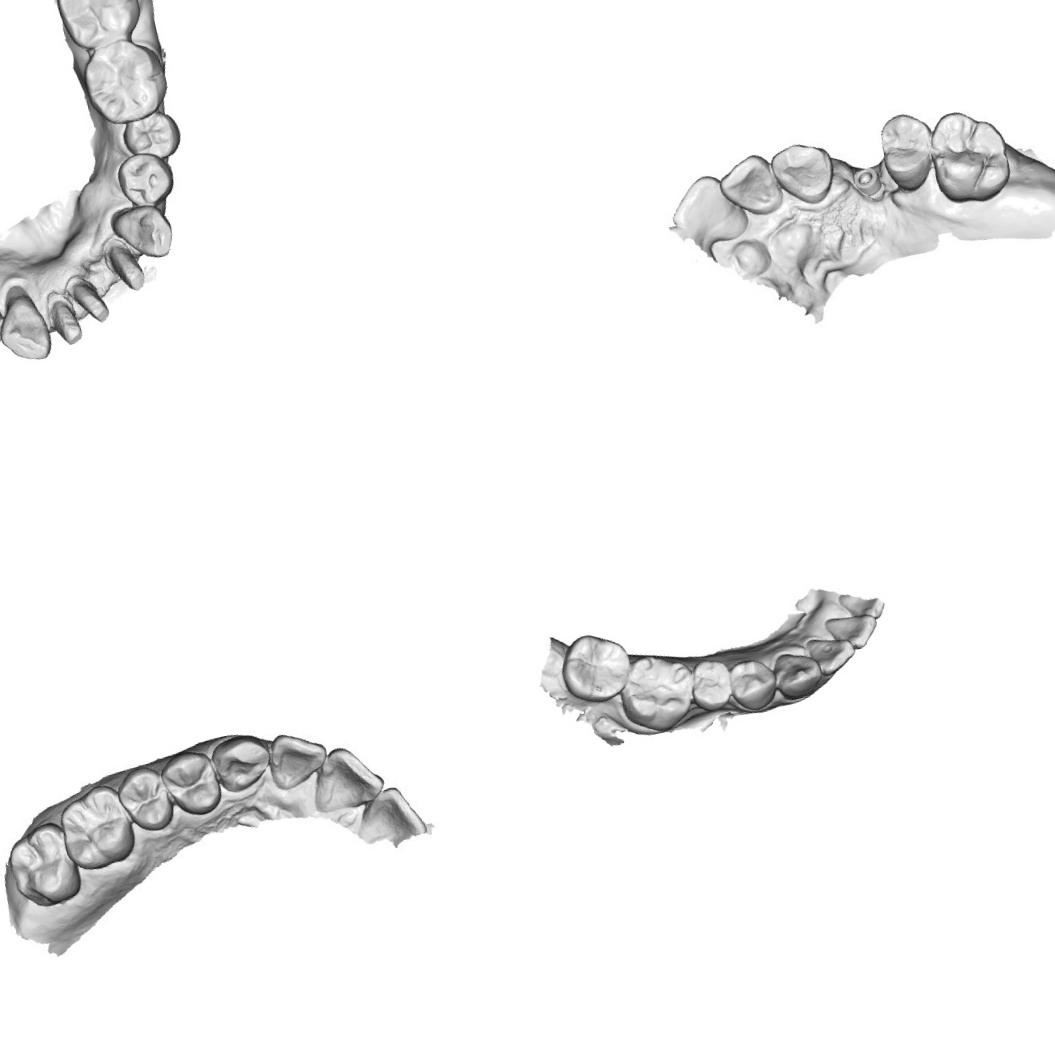canine: (766, 134, 841, 212), (106, 198, 180, 268), (207, 728, 277, 796), (0, 286, 57, 369), (770, 644, 826, 704)
crown: (97, 232, 150, 297), (63, 268, 114, 330), (42, 288, 86, 351)
implant: (849, 162, 885, 201)
incisor: (662, 167, 753, 252), (301, 738, 389, 819), (712, 148, 788, 224), (350, 780, 428, 850), (262, 722, 336, 792), (820, 608, 882, 656), (803, 630, 859, 680), (835, 587, 888, 626)
molar: (921, 101, 1018, 211), (75, 32, 175, 130), (610, 644, 701, 740), (51, 778, 140, 875), (0, 818, 87, 916), (553, 625, 639, 710), (49, 0, 147, 56)
premolar: (872, 106, 941, 192), (158, 743, 229, 824), (114, 766, 179, 838), (111, 145, 180, 212), (118, 104, 187, 167), (684, 653, 740, 717), (726, 653, 782, 716)
